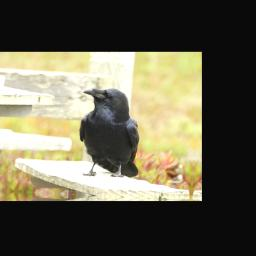Crow: (75, 86, 145, 179)
